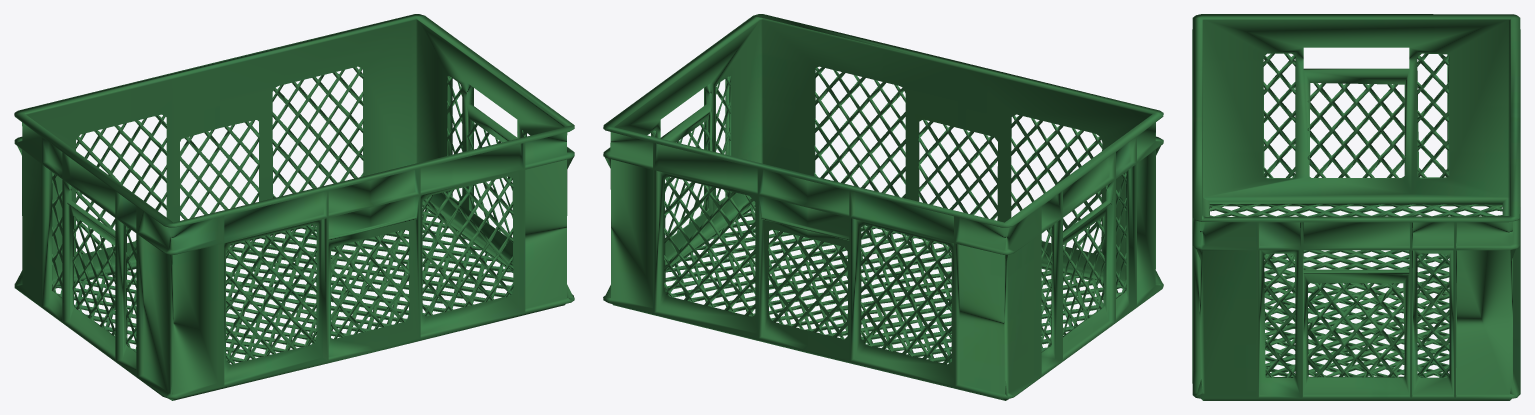
File: crate-green.glb
3 views of the same model, side by side, from view 1: azimuth 30°, elevation 25°; view 2: azimuth 150°, elevation 25°; view 3: azimuth 270°, elevation 25° (orthographic). The views are drawn at different scales.
Parts seen in each view (by area): view 1: sm_crate_green_a01_01; view 2: sm_crate_green_a01_01; view 3: sm_crate_green_a01_01.
Boxes of the visible parts, <box> form: sm_crate_green_a01_01: <box>14,14,574,400</box>; sm_crate_green_a01_01: <box>603,14,1163,400</box>; sm_crate_green_a01_01: <box>1192,14,1520,400</box>.
Bounding box in the file's own units: 0.6051 × 0.2529 × 0.4051.
1 material, 1 textured.
